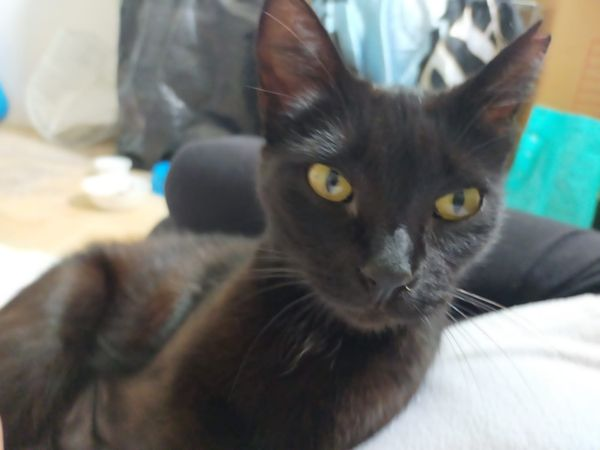cat: (1, 4, 564, 443)
